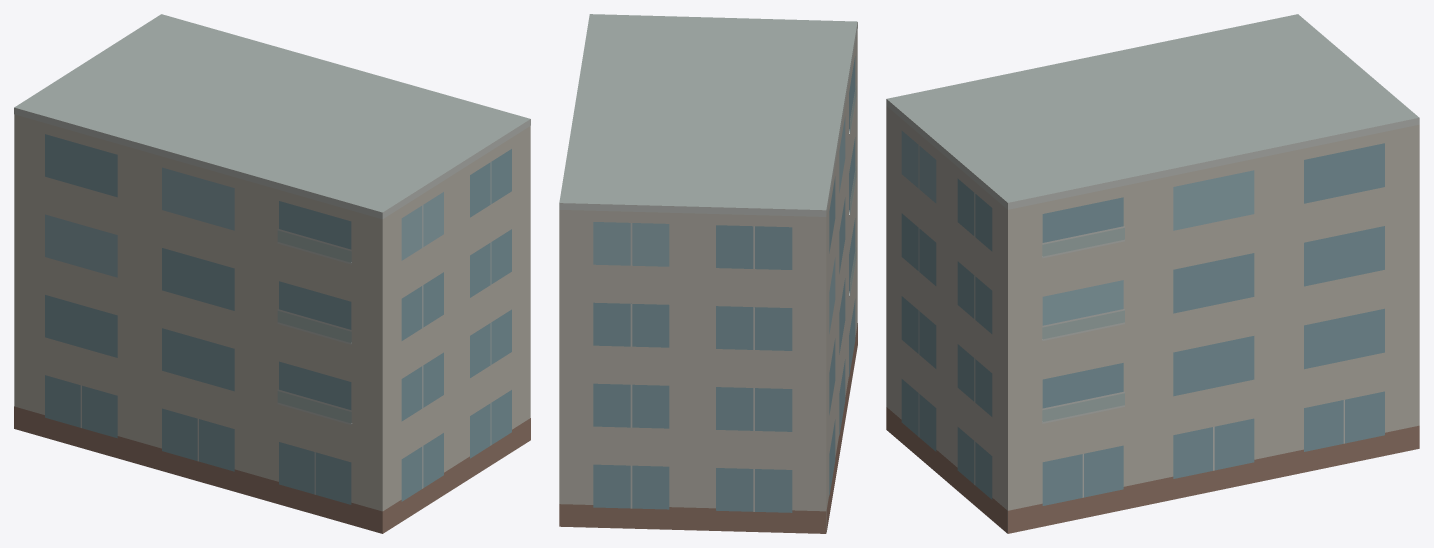
Rendered from survey-upis-32738251.glb.
3 views of the same model, side by side, from view 1: azimuth 30°, elevation 25°; view 2: azimuth 150°, elevation 25°; view 3: azimuth 270°, elevation 25° (orthographic). The views are drawn at different scales.
Parts seen in each view (by area): view 1: survey-upis-32738251.tmp; view 2: survey-upis-32738251.tmp; view 3: survey-upis-32738251.tmp.
Boxes of the visible parts, x1,y1,x2,y2 form: survey-upis-32738251.tmp: (14, 14, 530, 533); survey-upis-32738251.tmp: (559, 14, 857, 533); survey-upis-32738251.tmp: (886, 14, 1419, 533).
Bounding box in the file's own units: 14.21 × 11.6 × 16.94.
